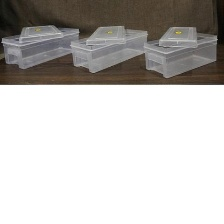plastic_box: (139, 21, 223, 81), (66, 20, 153, 77), (0, 20, 84, 72)
